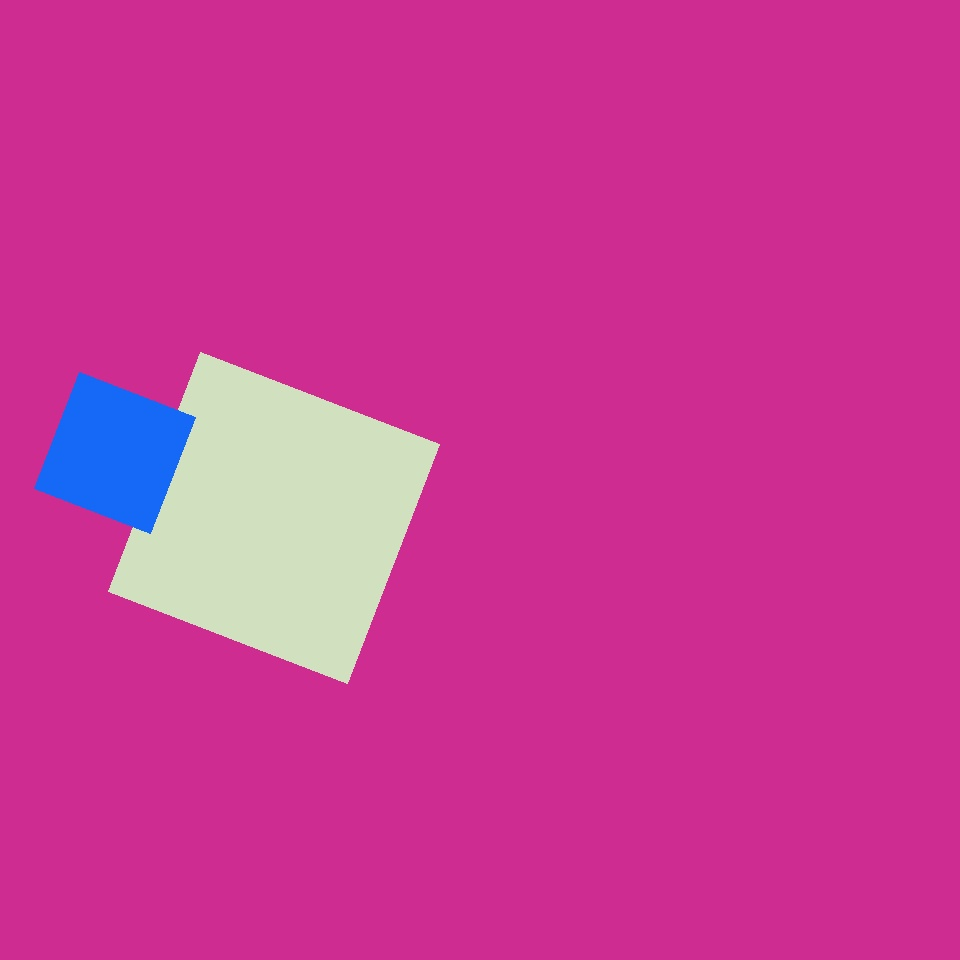square: (108, 352, 439, 684), (116, 233, 398, 516), (372, 282, 599, 509), (35, 372, 196, 534)
triangle: (42, 420, 380, 758), (39, 310, 356, 627), (67, 311, 313, 557), (3, 627, 204, 828)
